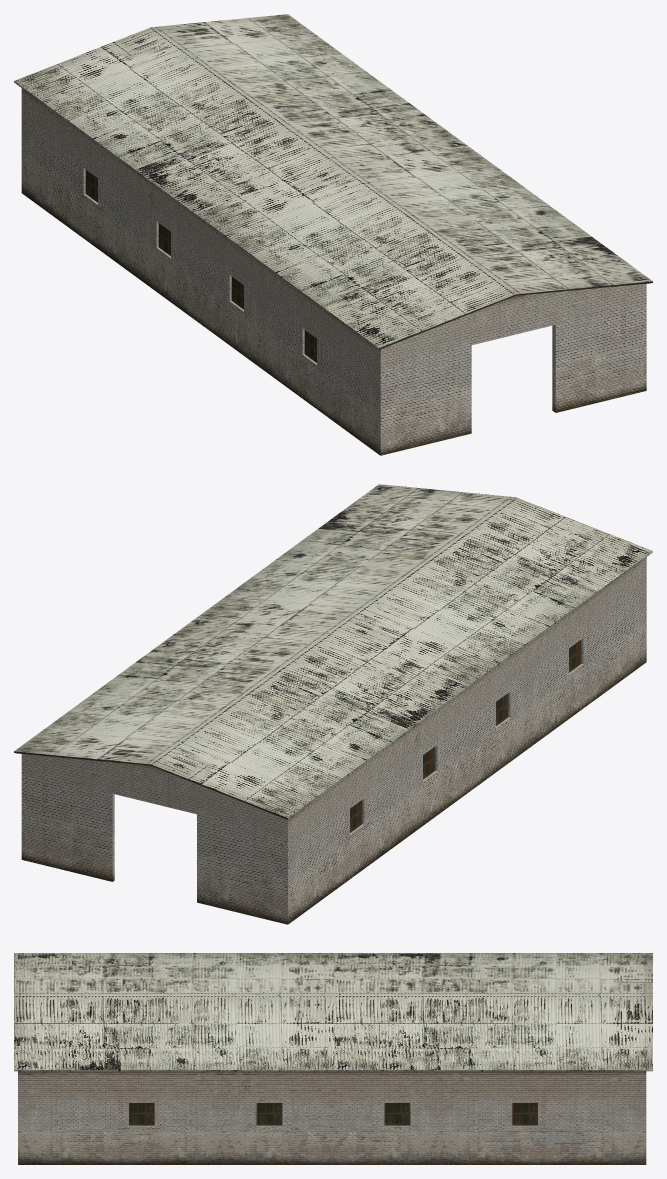
The model's file is r402_tushnolobovo_angar.FBX.
The picture shows the model from 3 angles, top to bottom: view 1: azimuth 30°, elevation 25°; view 2: azimuth 150°, elevation 25°; view 3: azimuth 270°, elevation 25°; orthographic projection. The views are drawn at different scales.
Parts seen in each view (by area): view 1: r402_tushnolobovo_angar; view 2: r402_tushnolobovo_angar; view 3: r402_tushnolobovo_angar.
Boxes of the visible parts, x1,y1,x2,y2 form: r402_tushnolobovo_angar: (14, 14, 652, 455); r402_tushnolobovo_angar: (14, 484, 652, 924); r402_tushnolobovo_angar: (14, 953, 652, 1164).
Bounding box in the file's own units: 1300 × 3000 × 592.
